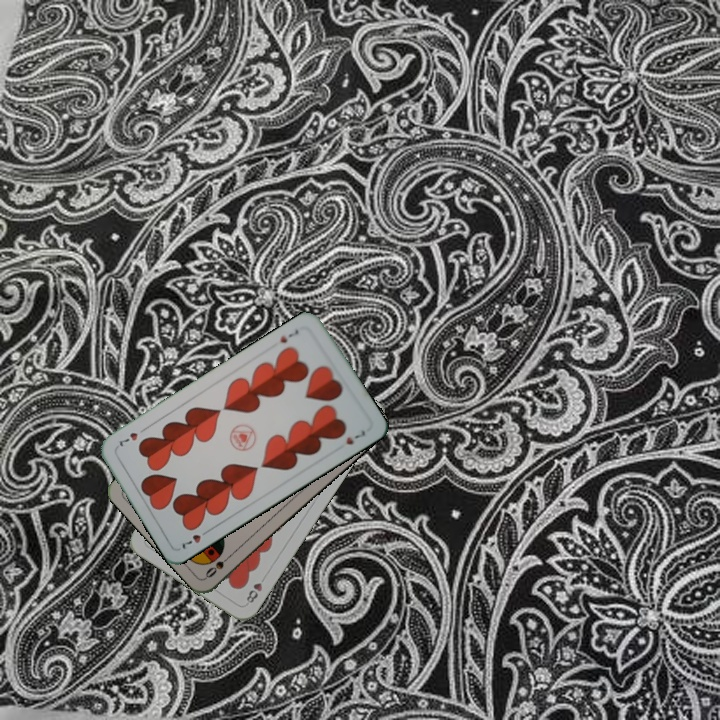H7: (178, 525, 213, 552), (276, 324, 301, 346)
H8: (242, 571, 269, 606)
SO: (201, 549, 235, 581)
